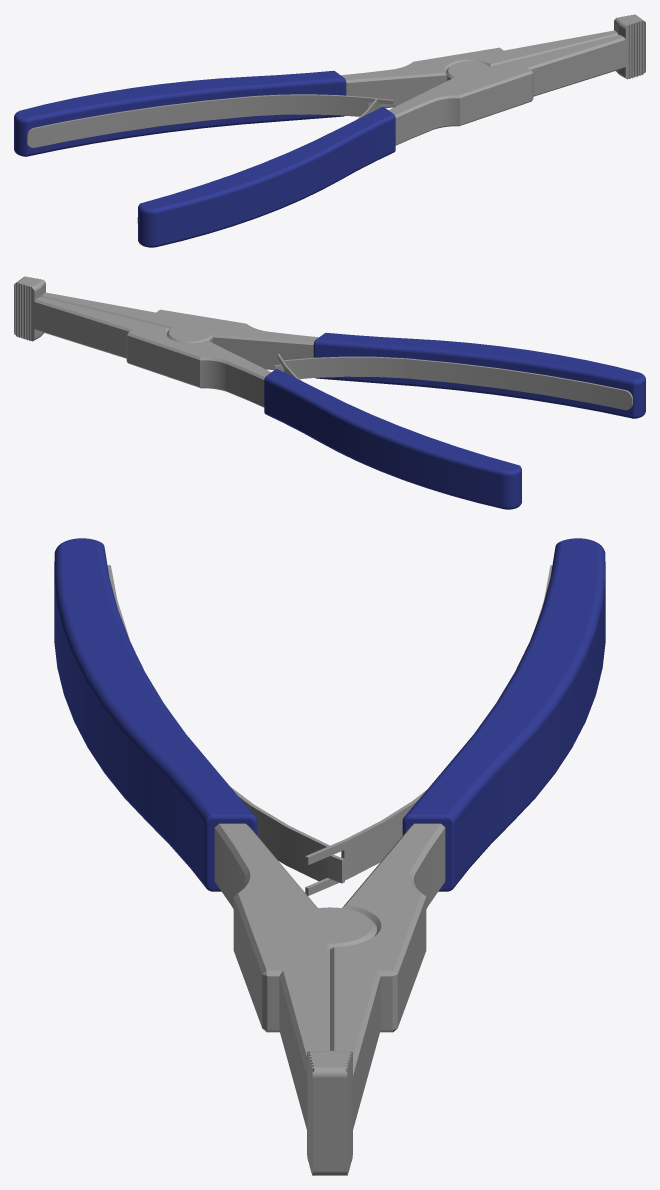
Rendered from plier_1.obj.
3 views of the same model, one above another, from view 1: azimuth 30°, elevation 25°; view 2: azimuth 150°, elevation 25°; view 3: azimuth 270°, elevation 25° (orthographic). The views are drawn at different scales.
Visible parts, largest first — view 1: mesh33, mesh9, mesh66, mesh109, mesh106, mesh27, mesh70, mesh144, mesh5, mesh47, mesh140, mesh25 (+15 smaller); view 2: mesh115, mesh182, mesh66, mesh36, mesh27, mesh106, mesh148, mesh144, mesh179, mesh124, mesh63, mesh111 (+15 smaller); view 3: mesh66, mesh27, mesh106, mesh144, mesh33, mesh115, mesh25, mesh111, mesh6, mesh110, mesh28, mesh178 (+12 smaller).
Part boxes in pixels (bbox=[...]): mesh33: bbox=[157, 146, 342, 244]; mesh9: bbox=[27, 97, 253, 147]; mesh66: bbox=[388, 35, 623, 114]; mesh109: bbox=[26, 88, 278, 154]; mesh106: bbox=[18, 71, 342, 117]; mesh27: bbox=[142, 107, 391, 208]; mesh70: bbox=[531, 26, 627, 95]; mesh144: bbox=[341, 30, 617, 80]; mesh5: bbox=[253, 95, 392, 116]; mesh47: bbox=[460, 73, 532, 124]; mesh140: bbox=[346, 75, 446, 107]; mesh25: bbox=[342, 119, 394, 176]; mesh115: bbox=[317, 408, 502, 506]; mesh182: bbox=[406, 359, 631, 410]; mesh66: bbox=[42, 292, 318, 342]; mesh36: bbox=[381, 350, 633, 416]; mesh27: bbox=[317, 333, 641, 379]; mesh106: bbox=[268, 369, 517, 470]; mesh148: bbox=[32, 288, 128, 357]; mesh144: bbox=[36, 297, 271, 376]; mesh179: bbox=[284, 357, 406, 378]; mesh124: bbox=[127, 335, 199, 386]; mesh63: bbox=[213, 337, 313, 368]; mesh111: bbox=[265, 381, 317, 438]; mesh66: bbox=[219, 823, 372, 1055]; mesh27: bbox=[62, 539, 248, 813]; mesh106: bbox=[411, 539, 597, 813]; mesh144: bbox=[334, 823, 440, 1055]; mesh33: bbox=[54, 581, 146, 818]; mesh115: bbox=[513, 581, 605, 818]; mesh25: bbox=[146, 757, 204, 883]; mesh111: bbox=[455, 757, 513, 883]; mesh6: bbox=[308, 800, 417, 895]; mesh110: bbox=[506, 546, 605, 756]; mesh28: bbox=[54, 546, 153, 756]; mesh178: bbox=[238, 796, 327, 881].
Bounding box in the file's own units: 0.1529 × 0.014 × 0.0648.
